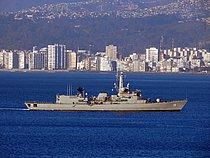MIL_Ship: (22, 70, 190, 113)
